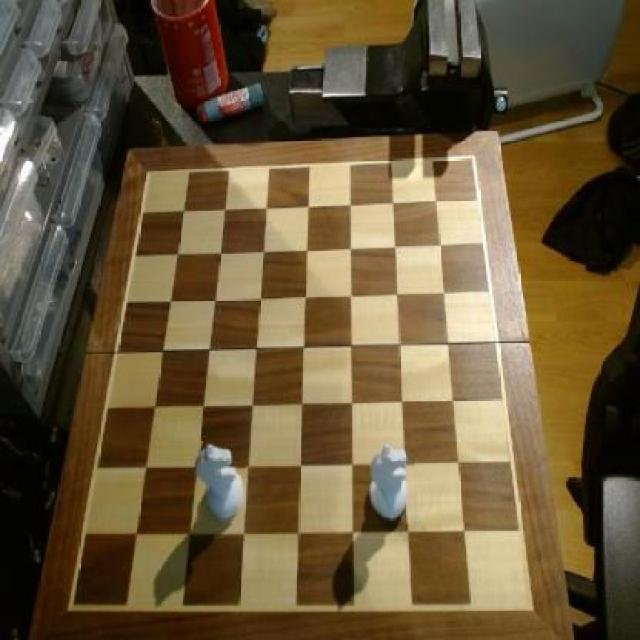white-king: (196, 441, 247, 524), (366, 443, 414, 525)
